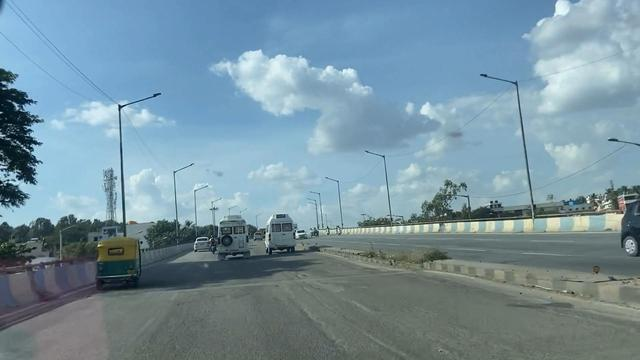HMV: (217, 205, 253, 258), (261, 213, 295, 255)
LMV: (90, 235, 148, 286)
RoadDamages: (262, 268, 441, 360)
